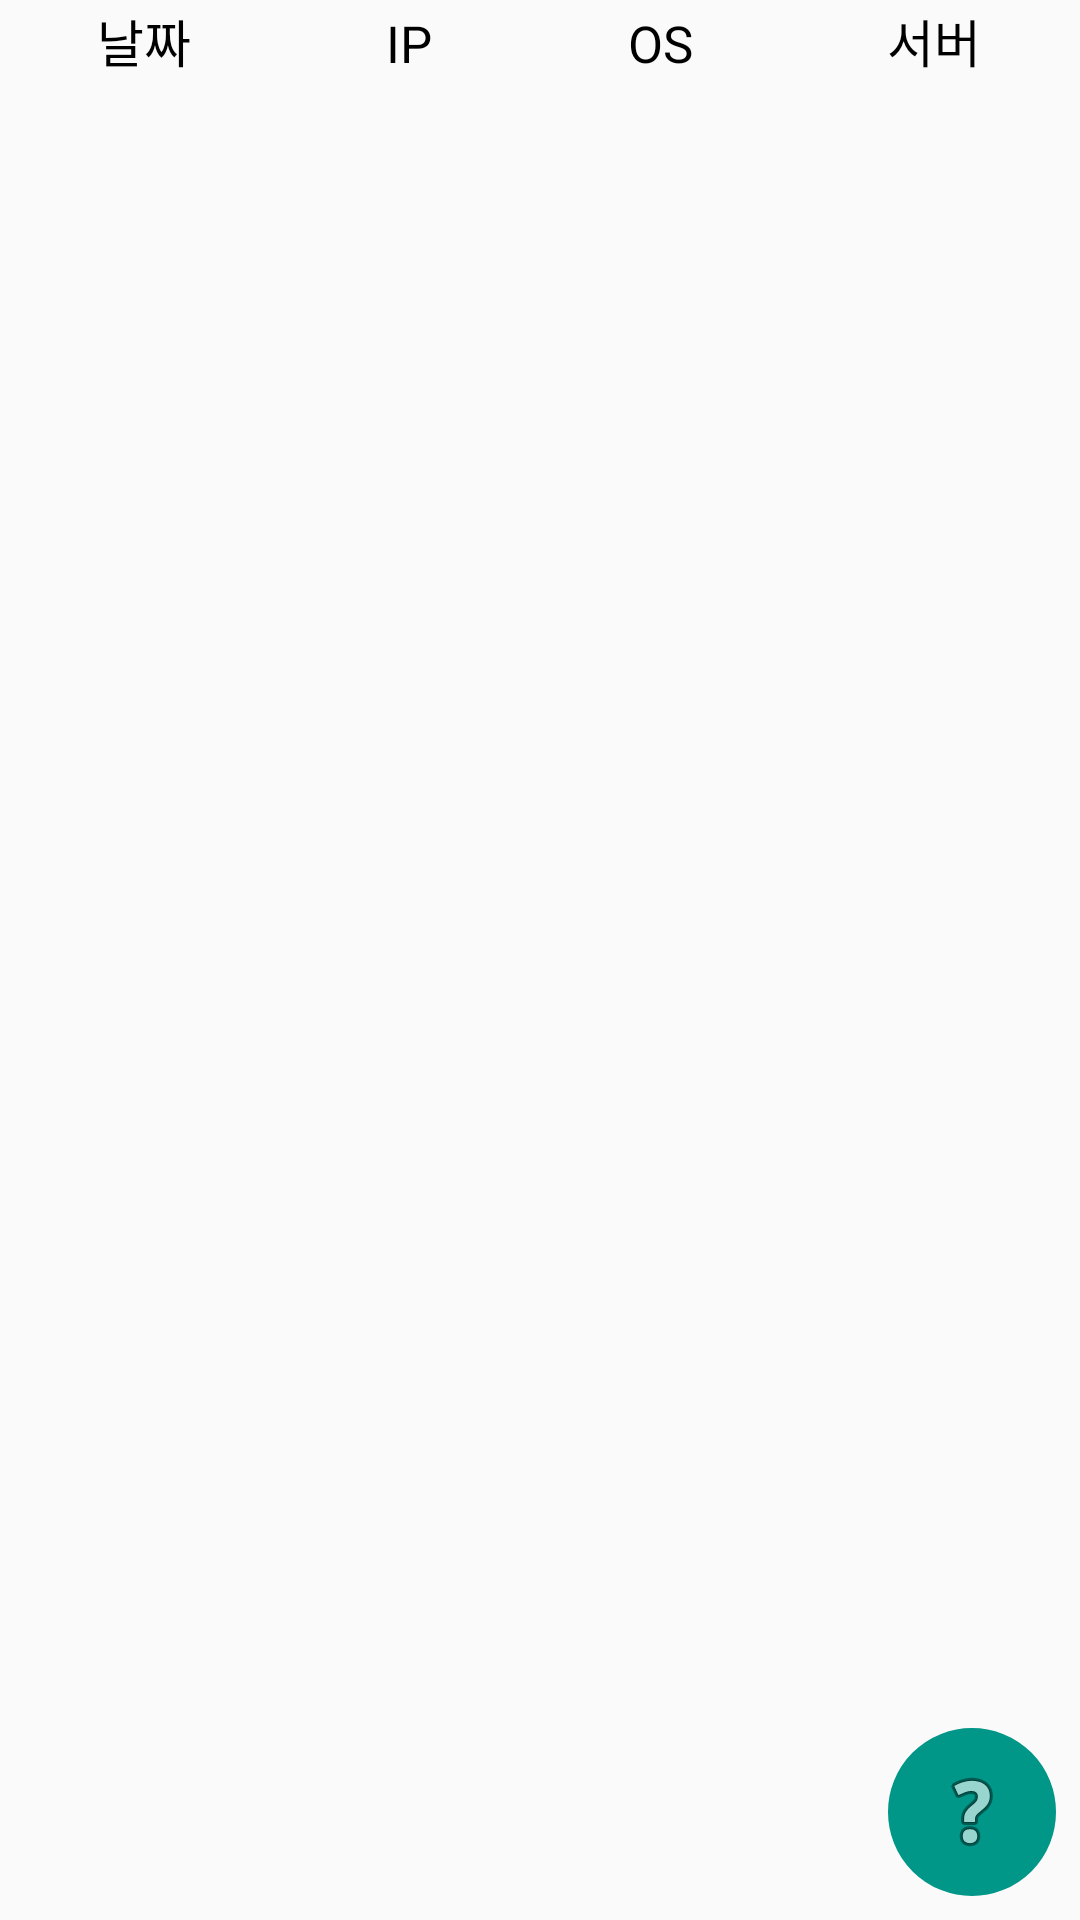

Named icons in this screenshot (1080px x 1920px) and their bounding boxes, detection(x1, y1, x2, y2):
help: detection(888, 1728, 1056, 1896)
